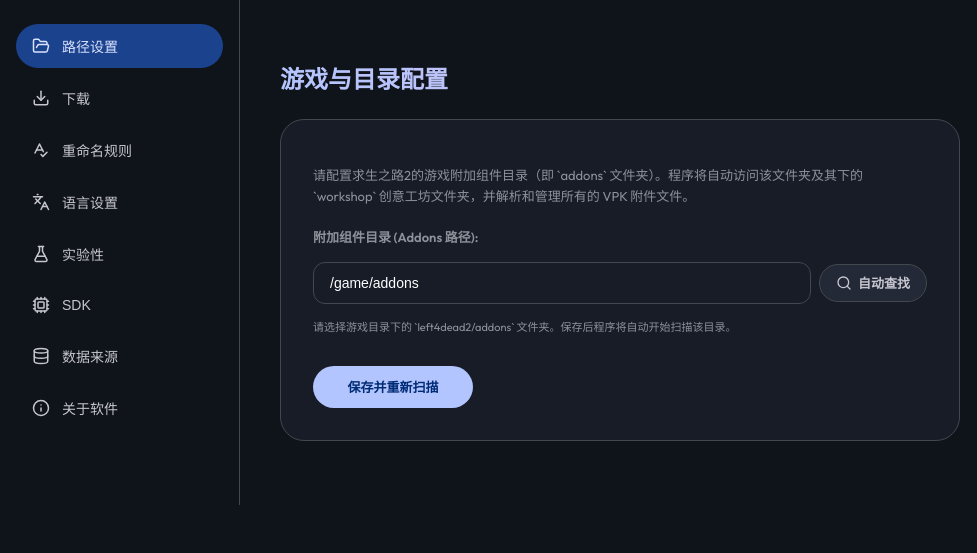
Test: SettingsView › handles auto detect path successfully
What coordinates should you click on to do the following:
click the button "自动查找"
I would click on:
 (873, 282)
Its box is [819, 264, 927, 302].
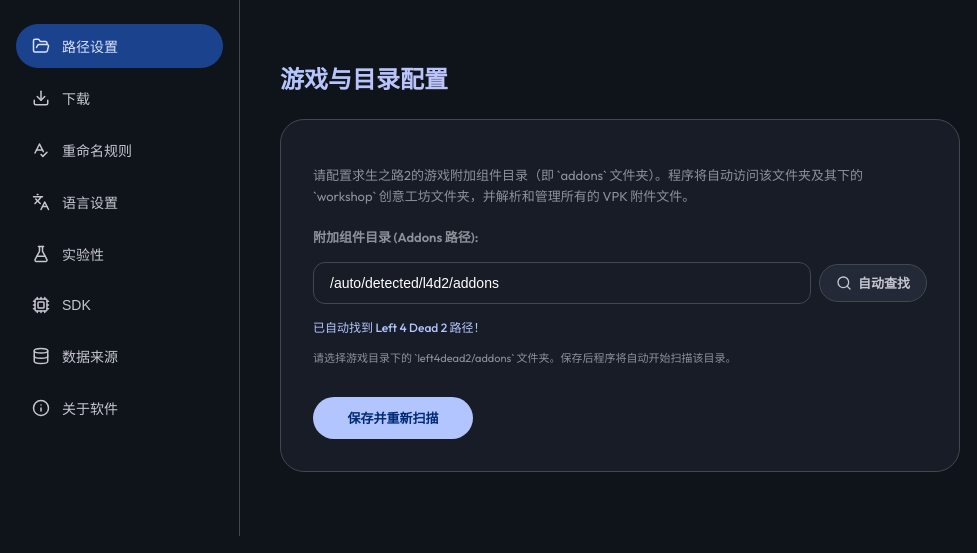
Result: the field showing "/auto/detected/l4d2/addons" holds "/auto/detected/l4d2/addons" at [313, 262, 811, 304]
Result: the text "已自动找到 Left 4 Dead 2 路径！" is shown at [313, 320, 486, 334]
